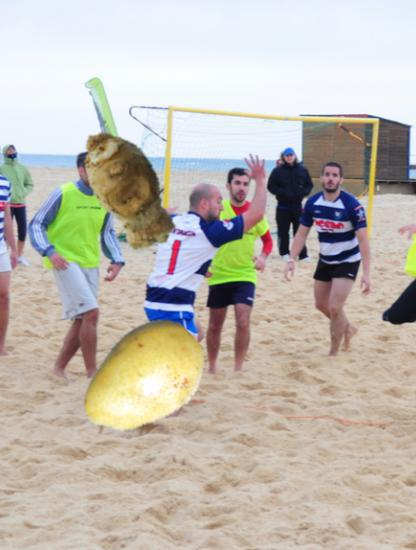Ginger: (62, 122, 195, 255)
Mulberry: (104, 321, 200, 417)
Pear: (75, 314, 210, 449)
